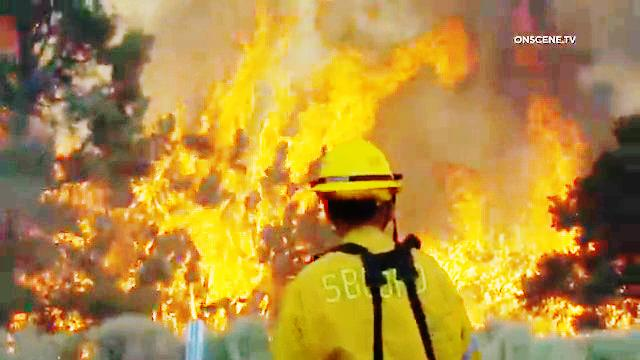fire: (134, 24, 319, 294), (421, 108, 575, 315)
